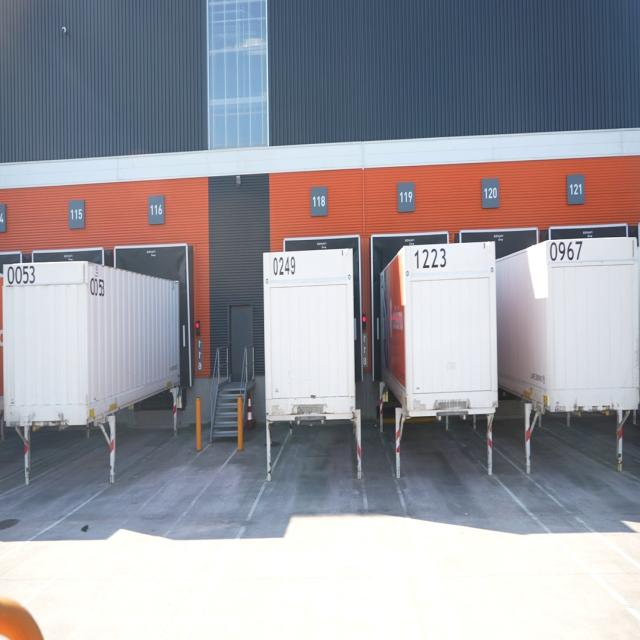Code: (412, 243, 450, 271), (6, 264, 42, 290), (549, 239, 583, 262), (270, 253, 297, 278)
